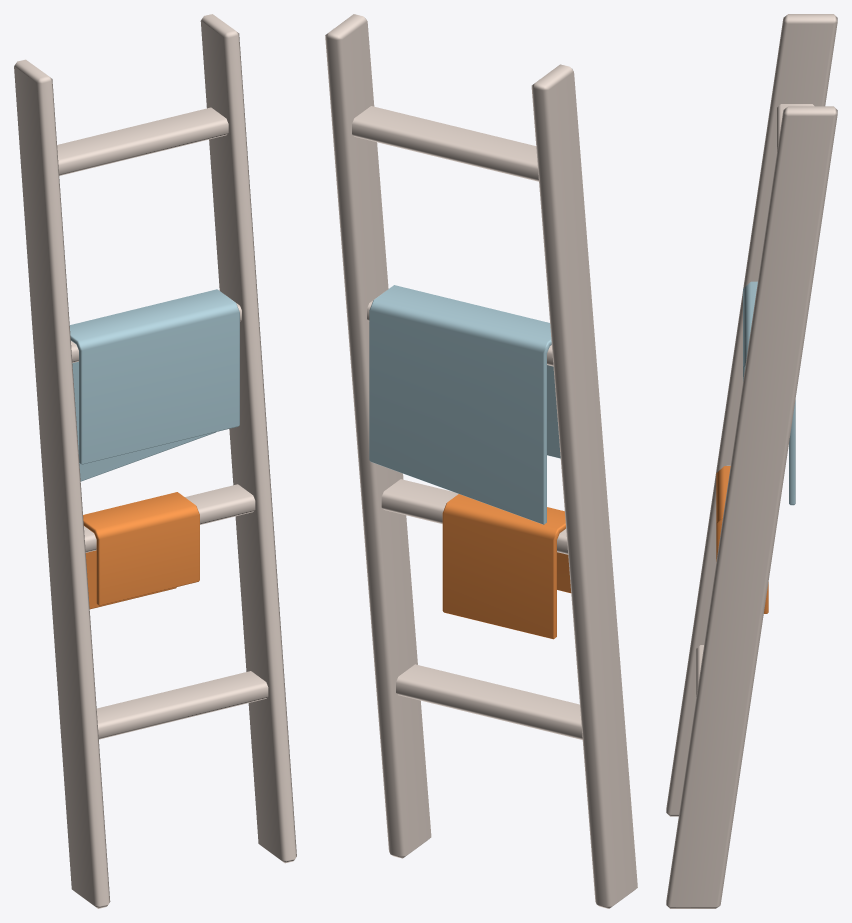
File: Ladder_with_towels.glb
The picture shows the model from 3 angles, left to right: view 1: azimuth 30°, elevation 25°; view 2: azimuth 150°, elevation 25°; view 3: azimuth 270°, elevation 25°; orthographic projection. The views are drawn at different scales.
Visible parts, largest first — view 1: Ladder_with_towels; view 2: Ladder_with_towels; view 3: Ladder_with_towels.
Boxes of the visible parts, left/top/right/bottom form: Ladder_with_towels: left=14, top=14, right=296, bottom=908; Ladder_with_towels: left=325, top=14, right=637, bottom=908; Ladder_with_towels: left=666, top=14, right=837, bottom=908.
Bounding box in the file's own units: 0.8486 × 3.15 × 0.6135.
Materials: 1 (1 with a texture image).
